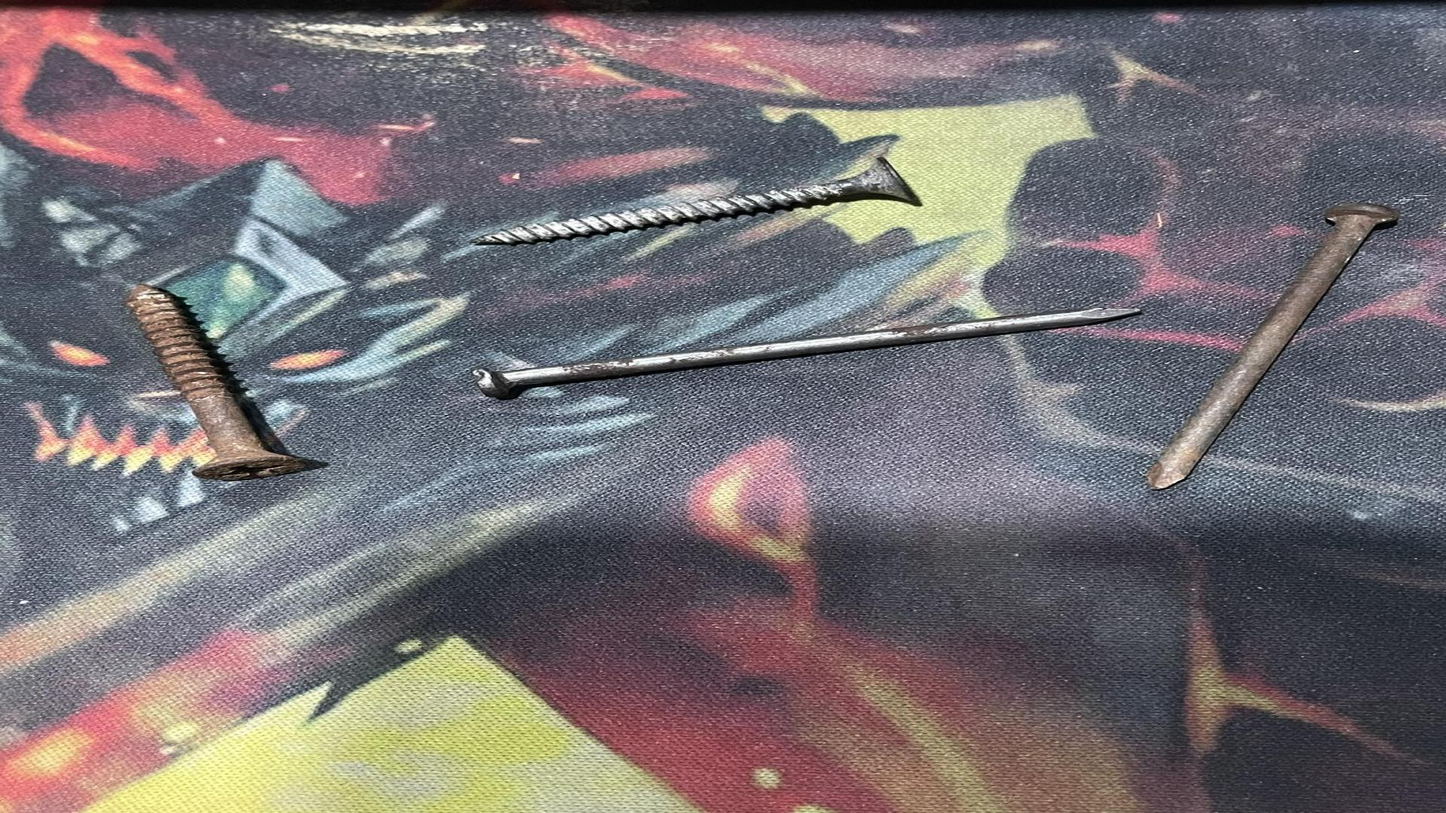nail: (430, 295, 1189, 421), (1139, 196, 1406, 524)
screw: (448, 145, 1029, 267), (94, 271, 336, 496)
